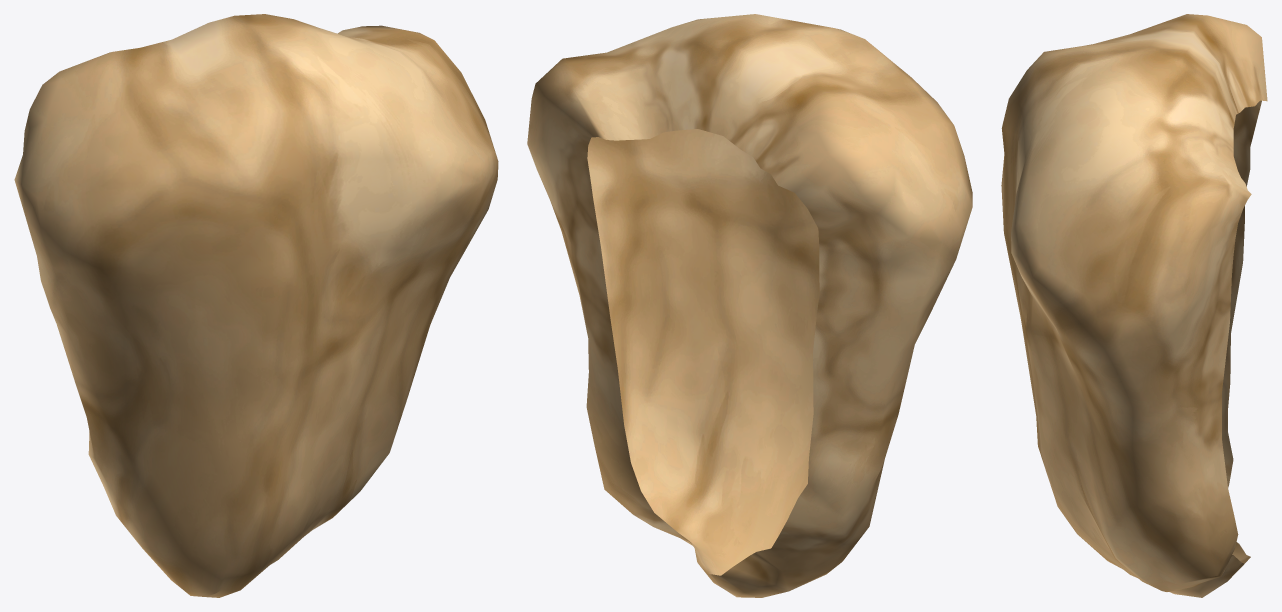
File: SM_ENV_KNFRST_CliffRock_C.FBX
3 renders of one model, left to right at view 1: azimuth 30°, elevation 25°; view 2: azimuth 150°, elevation 25°; view 3: azimuth 270°, elevation 25°, orthographic. The views are drawn at different scales.
Parts seen in each view (by area): view 1: SM_ENV_KNFRST_CliffRock_C; view 2: SM_ENV_KNFRST_CliffRock_C; view 3: SM_ENV_KNFRST_CliffRock_C.
Part boxes in pixels (x1,y1,x2,y2): SM_ENV_KNFRST_CliffRock_C: (14,14,498,597); SM_ENV_KNFRST_CliffRock_C: (527,14,972,597); SM_ENV_KNFRST_CliffRock_C: (1001,14,1267,597).
Bounding box in the file's own units: 806 × 993 × 431.
